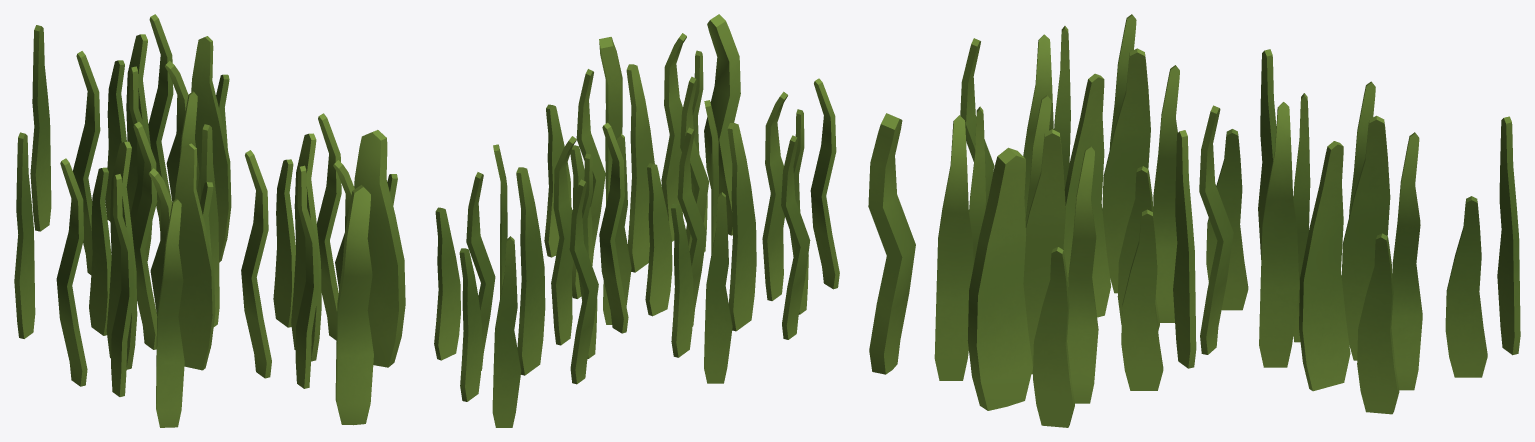
The model's file is Grass Full.fbx.
3 views of the same model, side by side, from view 1: azimuth 30°, elevation 25°; view 2: azimuth 150°, elevation 25°; view 3: azimuth 270°, elevation 25° (orthographic). The views are drawn at different scales.
Visible parts, largest first — view 1: Grass_Full EXP; view 2: Grass_Full EXP; view 3: Grass_Full EXP.
Part boxes in pixels (<box>): Grass_Full EXP: <box>14,14,405,427</box>; Grass_Full EXP: <box>434,14,839,427</box>; Grass_Full EXP: <box>868,14,1520,427</box>.
Size of the model in its own units: 57.95 by 42.28 by 94.62.
Materials: 1 (1 with a texture image).
